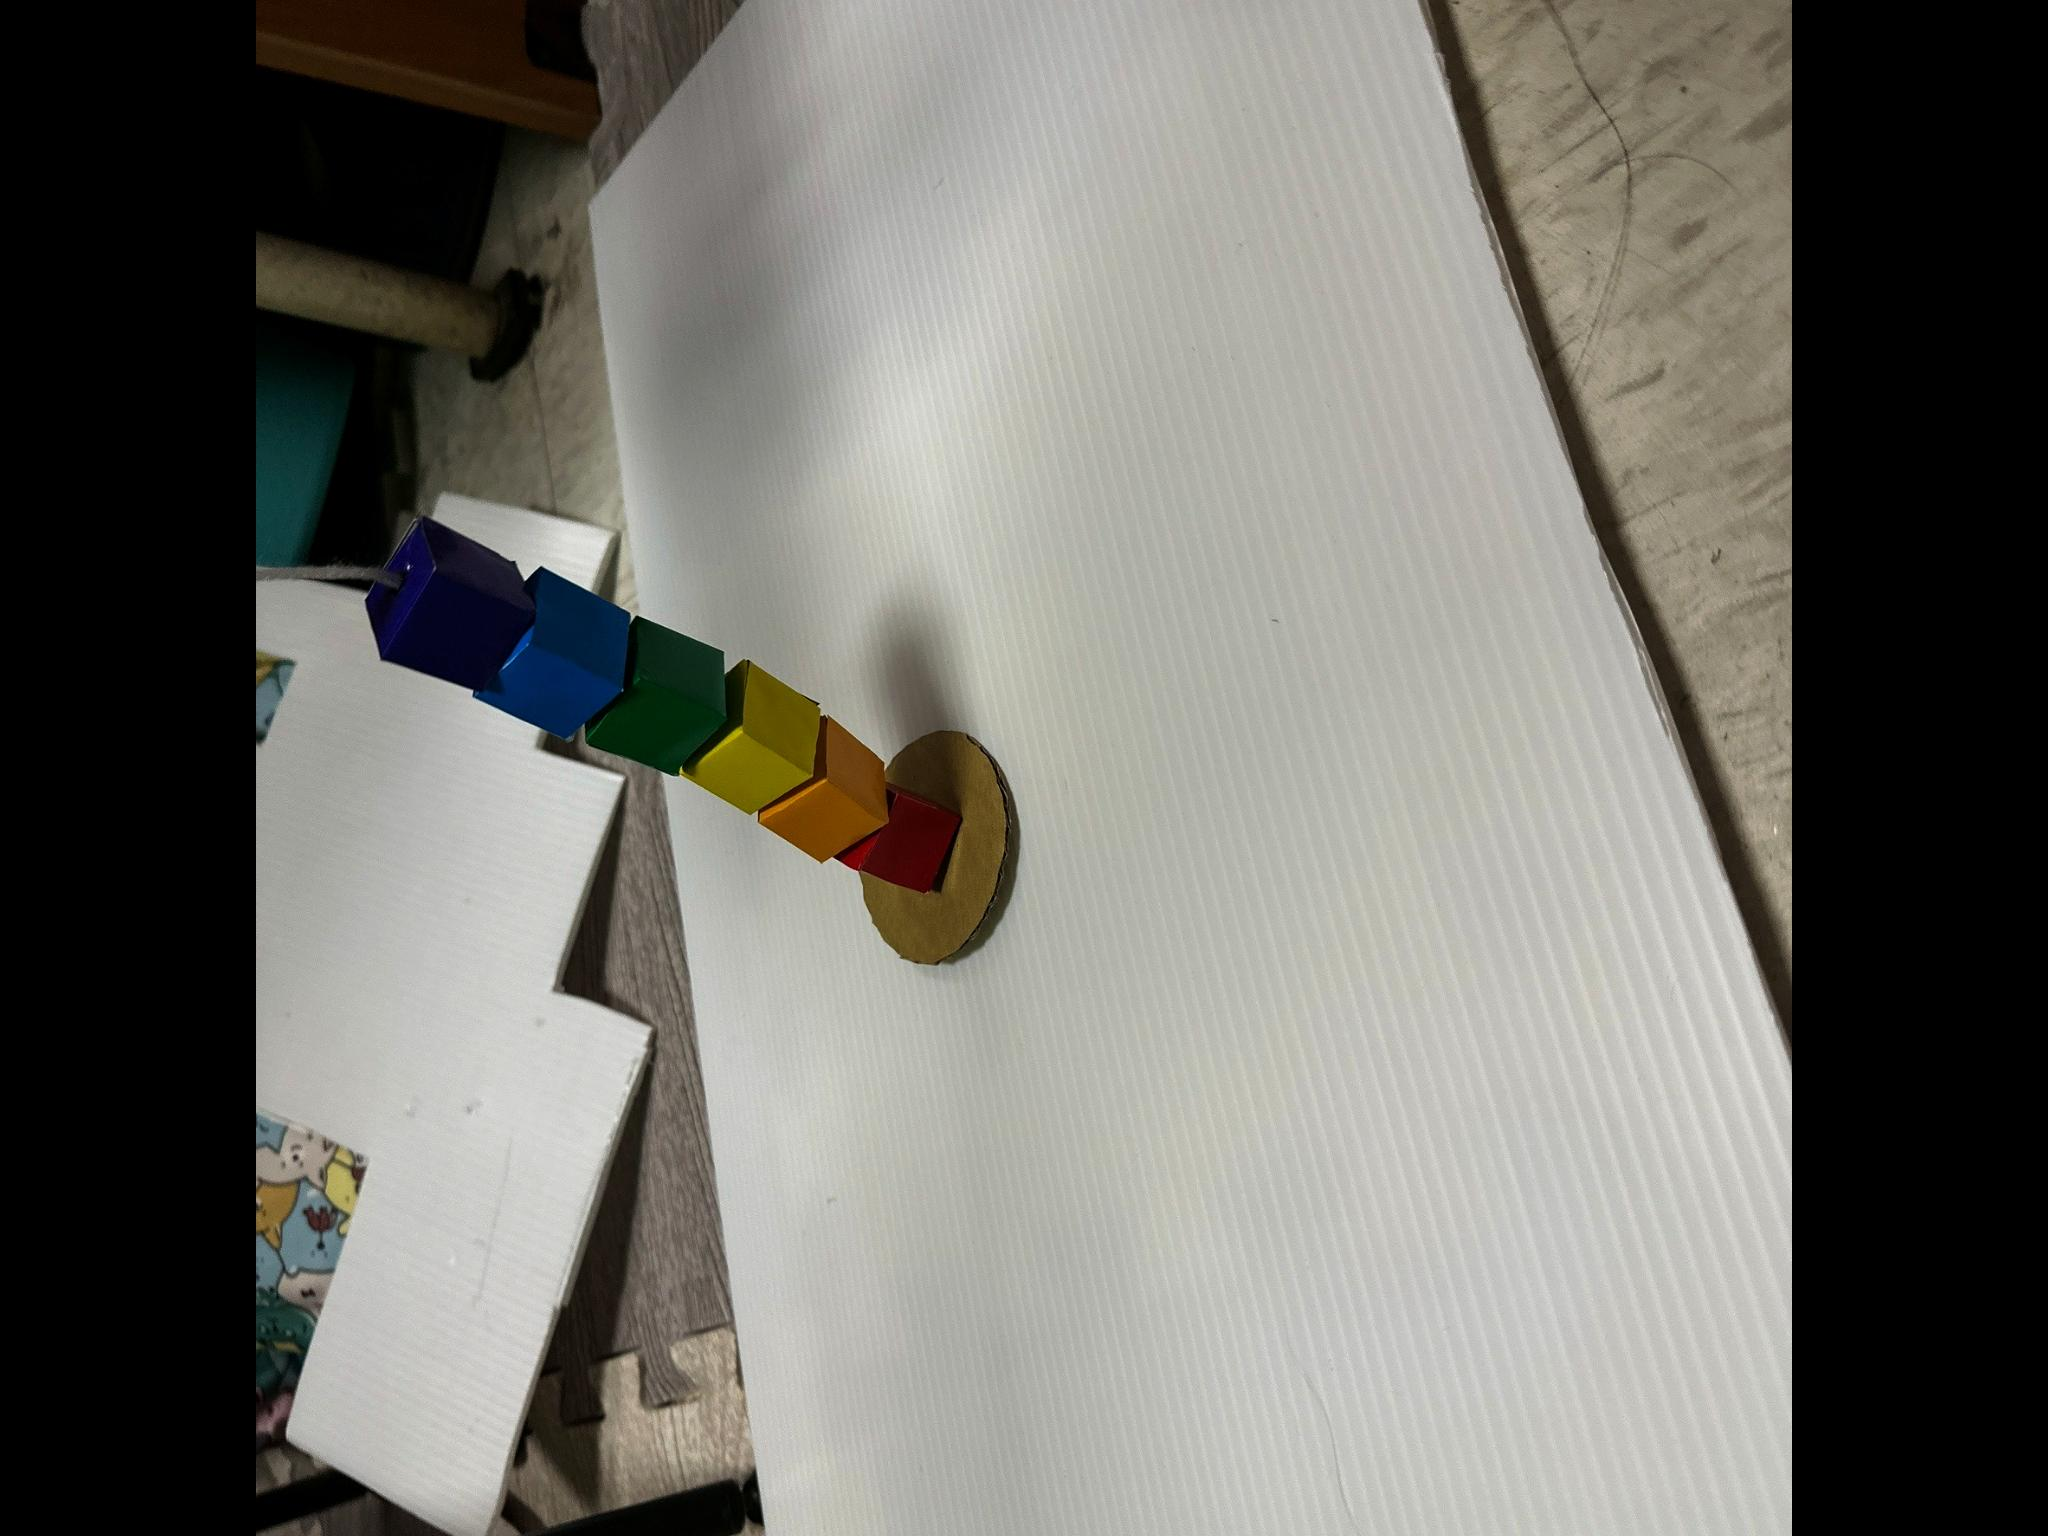base: (366, 518, 535, 689), (476, 566, 629, 737), (679, 660, 822, 812), (587, 616, 726, 773), (758, 716, 889, 860), (837, 786, 961, 891)
